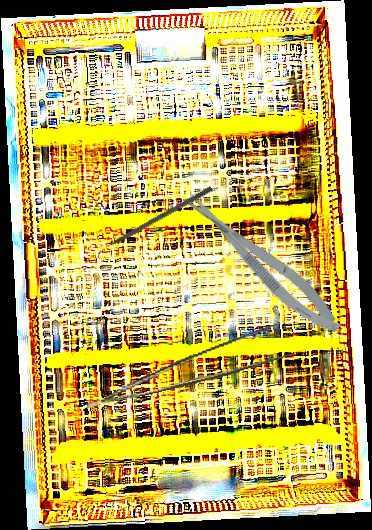Micro Scissor: (177, 181, 348, 343)
Pusher: (91, 184, 214, 257)
Tissue Forceps: (78, 321, 298, 409)
